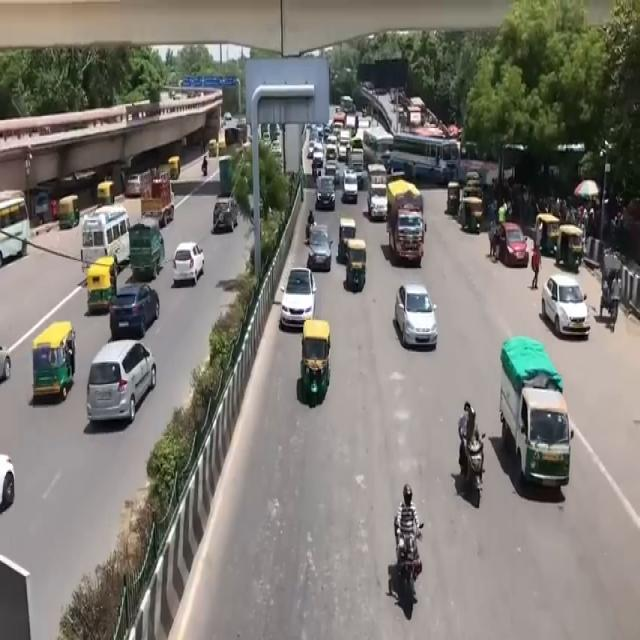BUS: (390, 130, 461, 184)
MOTORCYCLE: (399, 524, 423, 622), (465, 434, 488, 506)
TRUCK: (502, 337, 574, 498), (389, 184, 428, 268)
